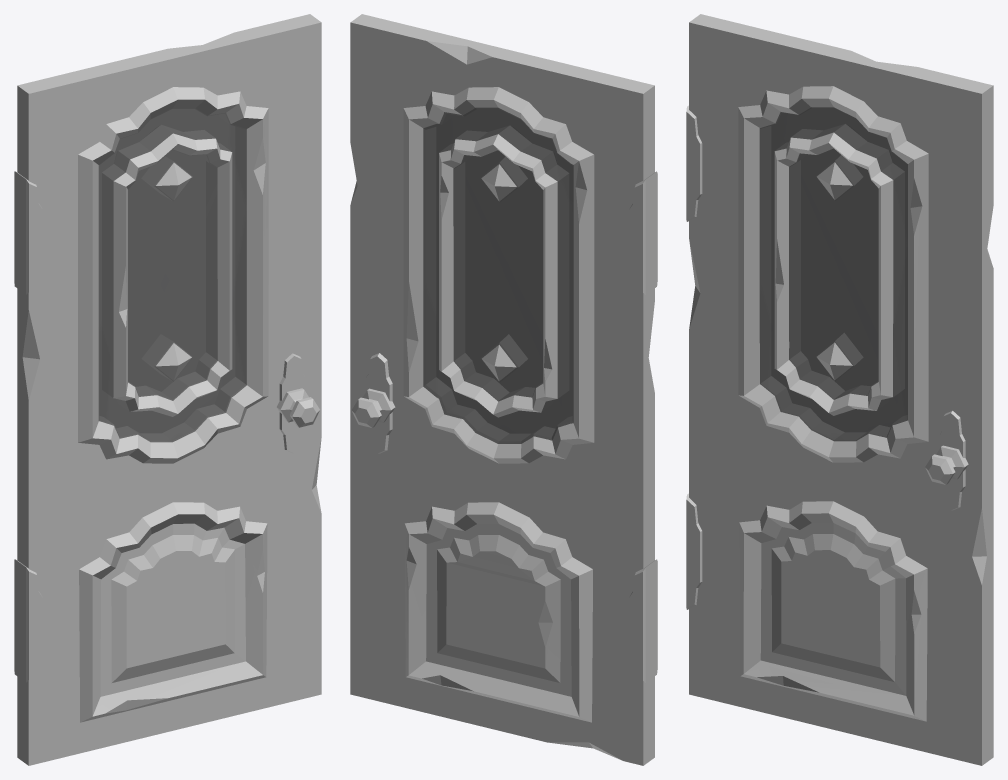
Rendered from SM_Bld_Door_Large_02.fbx.
3 renders of one model, left to right at view 1: azimuth 30°, elevation 25°; view 2: azimuth 150°, elevation 25°; view 3: azimuth 330°, elevation 25°, orthographic.
Visible parts, largest first — view 1: SM_Bld_Door_Large_02; view 2: SM_Bld_Door_Large_02; view 3: SM_Bld_Door_Large_02.
Boxes of the visible parts, x1,y1,x2,y2 form: SM_Bld_Door_Large_02: [14, 14, 321, 765]; SM_Bld_Door_Large_02: [350, 14, 657, 765]; SM_Bld_Door_Large_02: [686, 14, 993, 765].
Bounding box in the file's own units: 113 × 247 × 29.94.
